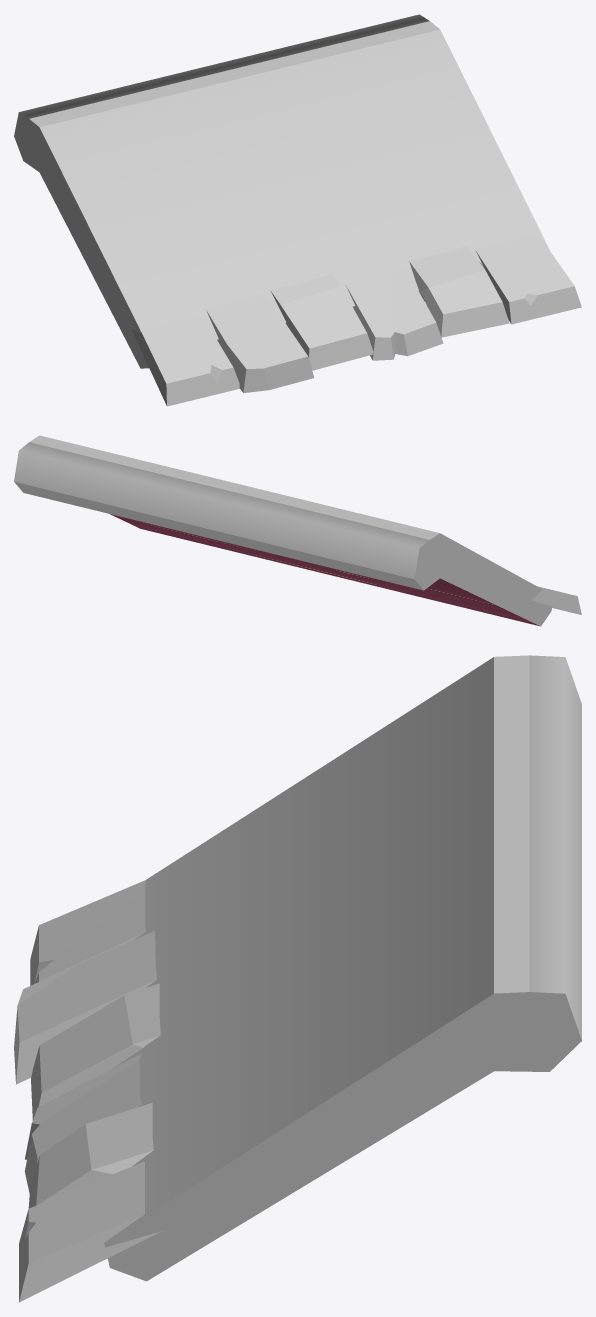
The model's file is SM_Bld_Roof_Trim_01.fbx.
The picture shows the model from 3 angles, top to bottom: view 1: azimuth 30°, elevation 25°; view 2: azimuth 150°, elevation 25°; view 3: azimuth 270°, elevation 25°; orthographic projection. The views are drawn at different scales.
Visible parts, largest first — view 1: SM_Bld_Roof_Trim_01; view 2: SM_Bld_Roof_Trim_01; view 3: SM_Bld_Roof_Trim_01.
Boxes of the visible parts, x1,y1,x2,y2 form: SM_Bld_Roof_Trim_01: (14,14,581,406); SM_Bld_Roof_Trim_01: (14,435,581,626); SM_Bld_Roof_Trim_01: (14,655,581,1302).
Bounding box in the file's own units: 257 × 111 × 178.
